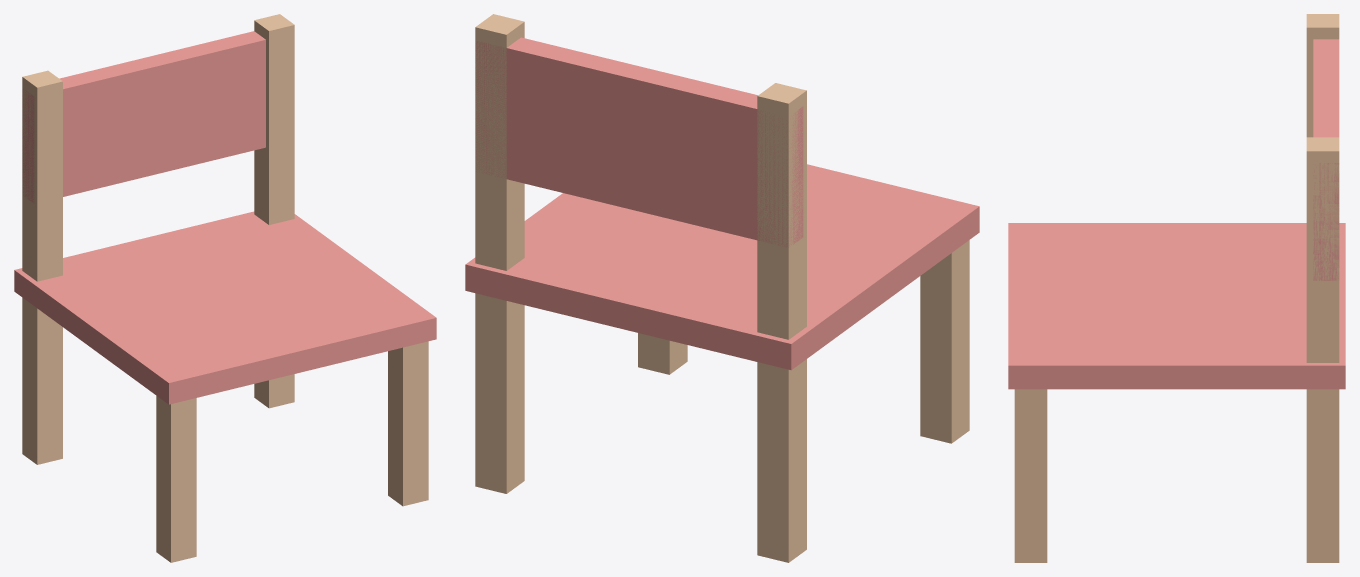
The model's file is kidsChairSmall.glb.
3 renders of one model, left to right at view 1: azimuth 30°, elevation 25°; view 2: azimuth 150°, elevation 25°; view 3: azimuth 270°, elevation 25°, orthographic. The views are drawn at different scales.
Visible parts, largest first — view 1: kidsChairSmall; view 2: kidsChairSmall; view 3: kidsChairSmall.
Part boxes in pixels (x1,y1,x2,y2): kidsChairSmall: [14, 14, 436, 562]; kidsChairSmall: [465, 14, 979, 562]; kidsChairSmall: [1008, 14, 1345, 562].
Bounding box in the file's own units: 0.26 × 0.35 × 0.26.
